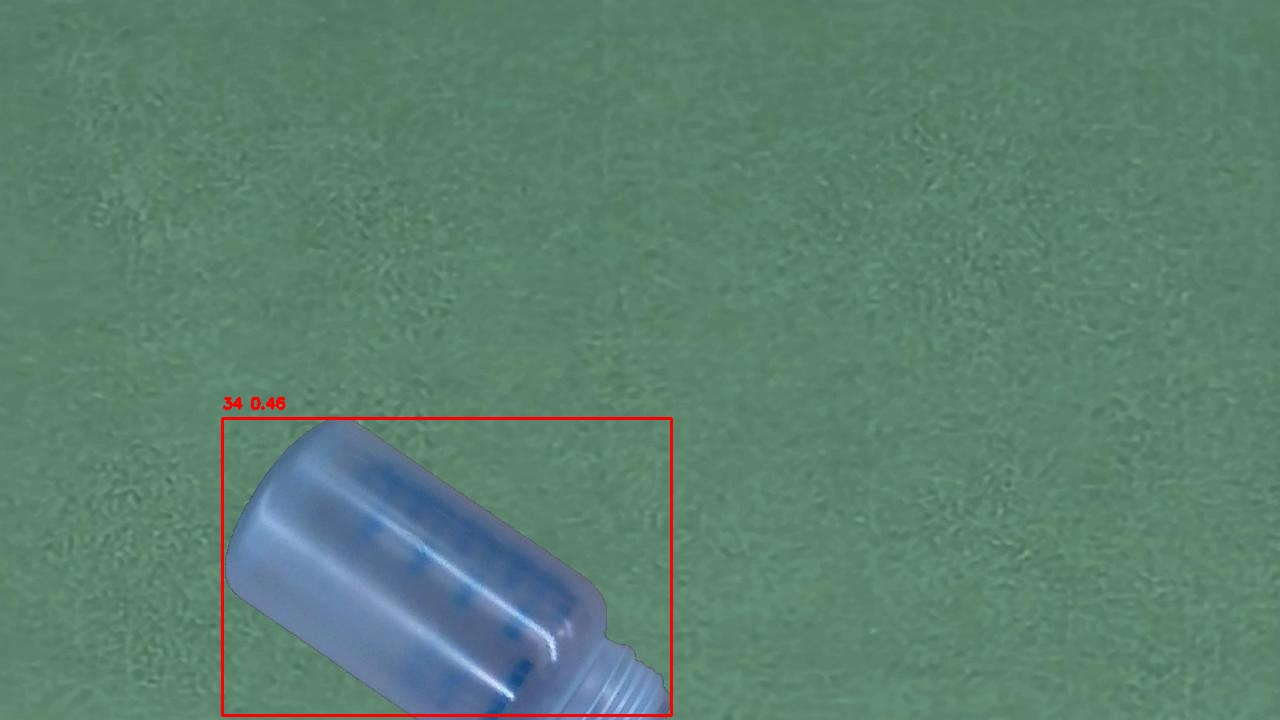cup: (222, 418, 671, 715)
